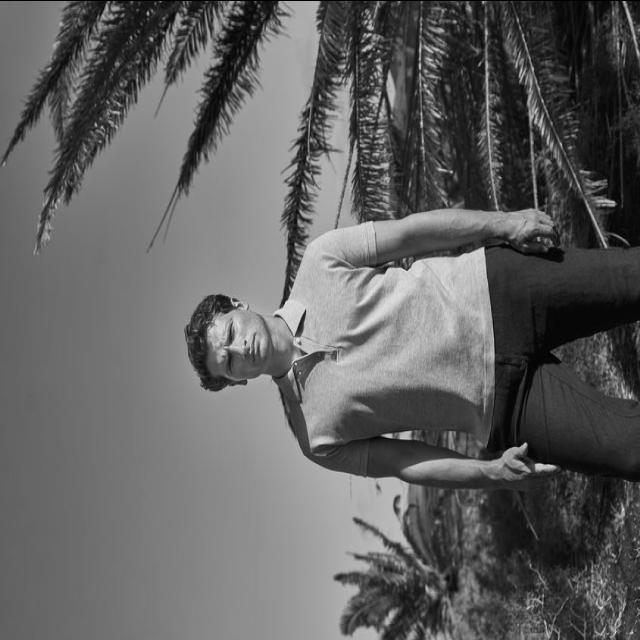shoulder: (286, 224, 342, 470)
